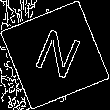N_SW: (27, 24, 83, 86)
